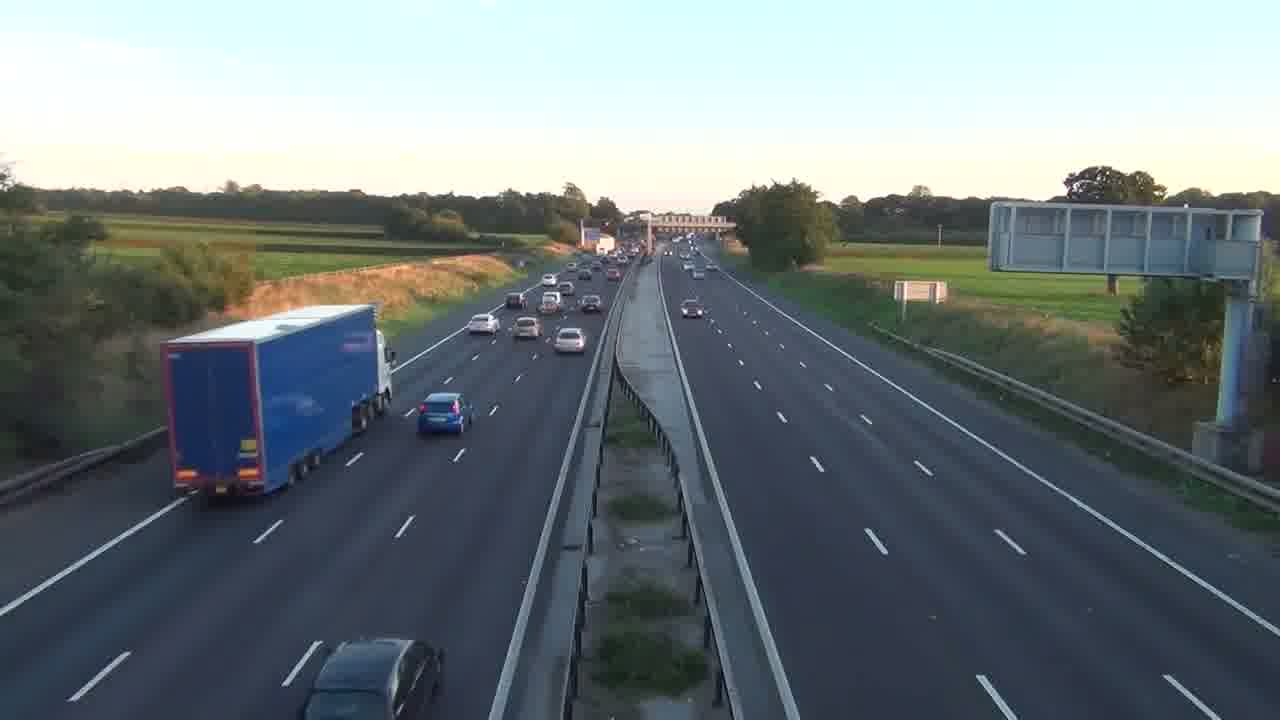car: (300, 636, 446, 718), (416, 391, 468, 435), (553, 326, 586, 355), (511, 316, 542, 340), (577, 293, 603, 313), (680, 297, 704, 318)
truck: (160, 302, 385, 503)
